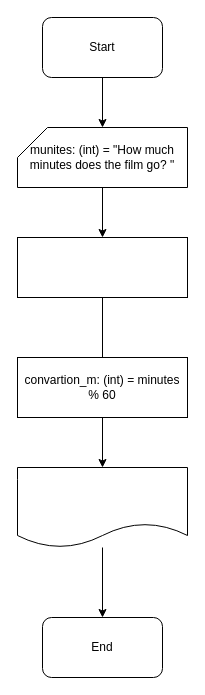
Image size: 205x695. Some labels were removed from this diagram. Each missing label, with the centre of its shape:
convartion: [102,507]
convartion_h: (int) = minutes // 60: [102,267]
